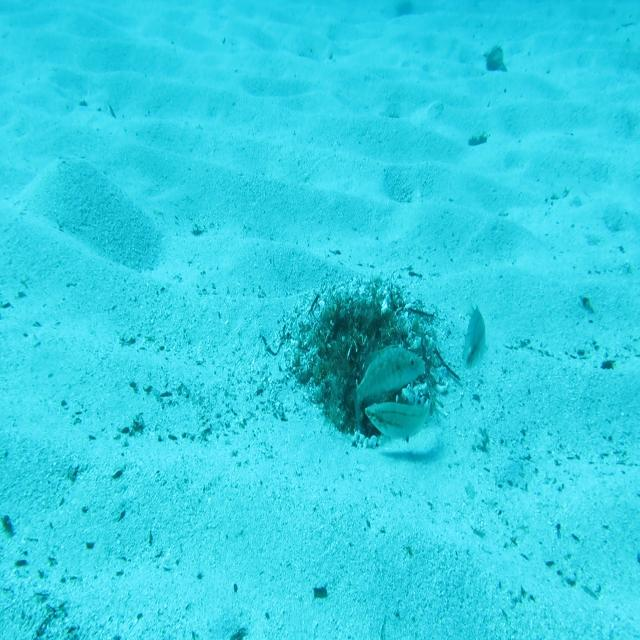DAN_CIRC: (351, 340, 427, 434)
core_nest: (339, 304, 389, 346)
female: (364, 390, 433, 445), (462, 297, 486, 375)
nest: (276, 273, 449, 453)
vegetation: (484, 42, 510, 75), (466, 130, 491, 148), (311, 582, 329, 600)
